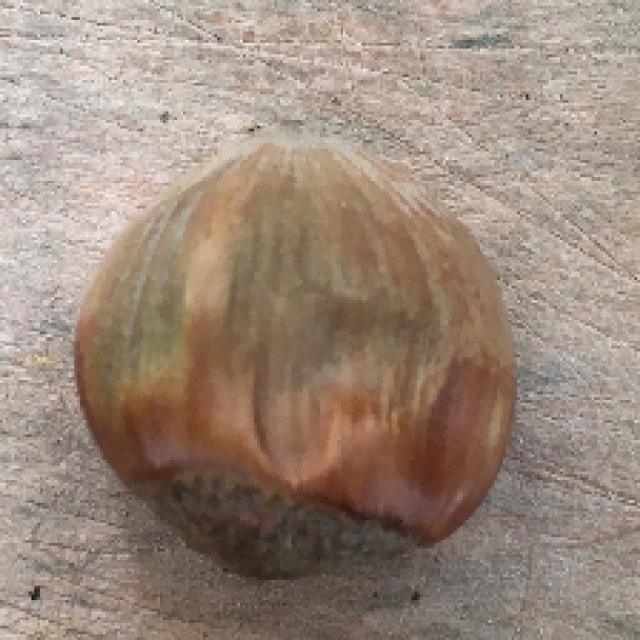damagedHazelnut: (61, 112, 529, 593)
